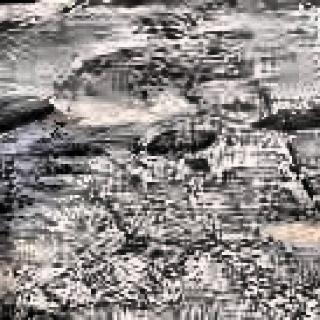pothole: (144, 123, 226, 164), (251, 98, 320, 135), (259, 211, 320, 247)
